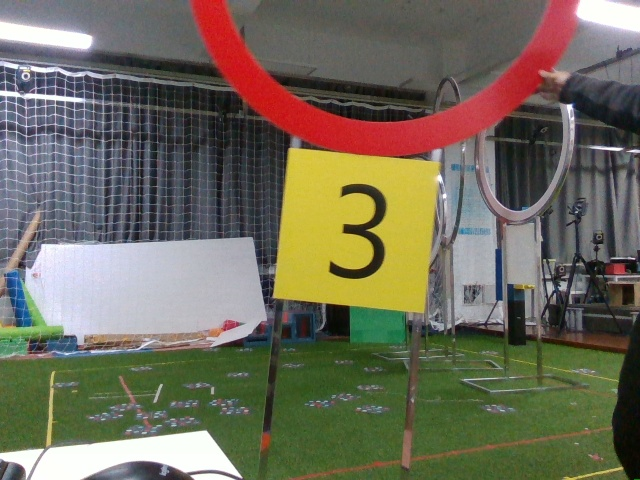target: (284, 156, 423, 299)
